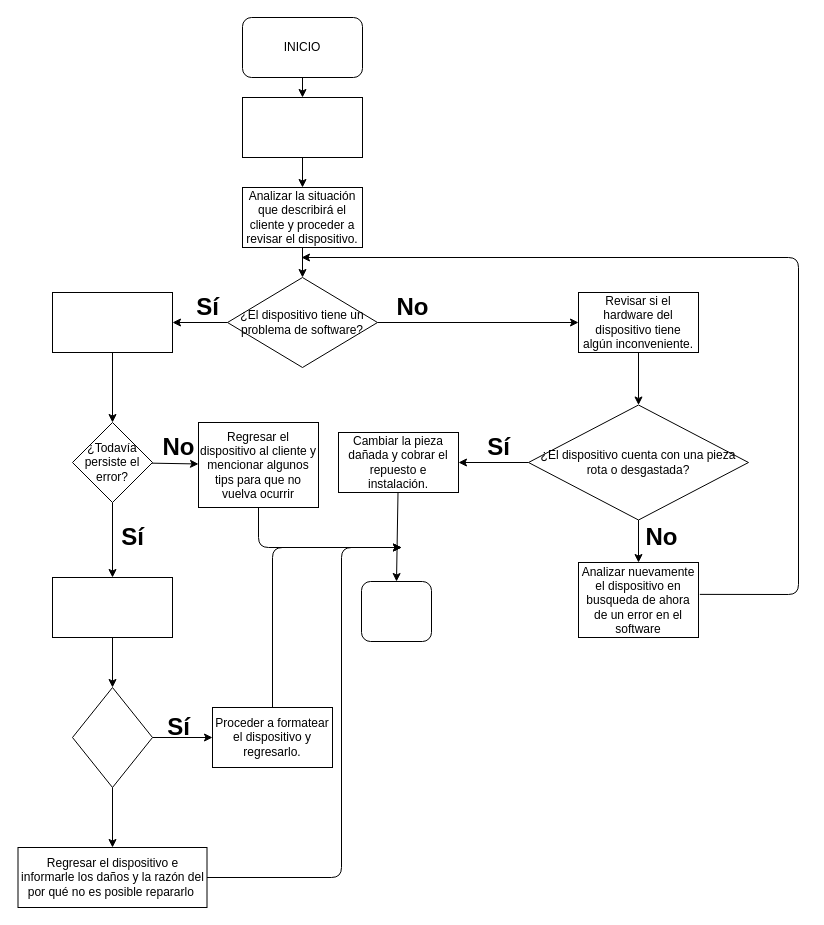
The diagram is 824 pixels wide and 925 high, and some of its shapes have lost their labels. Each missing label, with the box of its shape:
El cliente entrega un dispositivo el cual menciona que tiene un error.: (242, 96, 362, 158)
FIN: (360, 580, 432, 642)
Identificar de que tipo de problema se trata y si es posible reparalo.: (52, 292, 172, 352)
Sugerir al cliente formatear el dispositivo.: (52, 576, 172, 638)
¿El cliente acepta la idea?: (72, 686, 152, 788)
